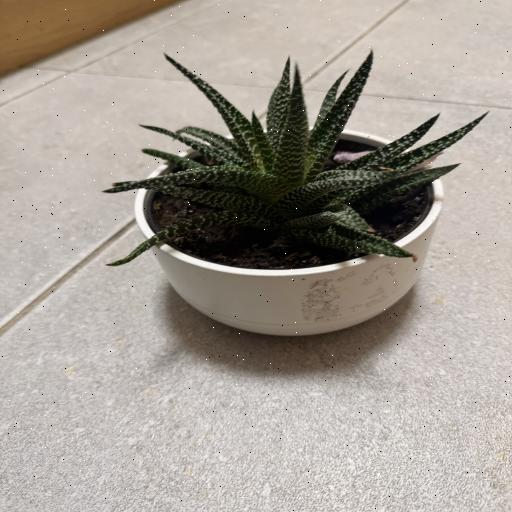Plant Pot: (136, 128, 446, 336)
